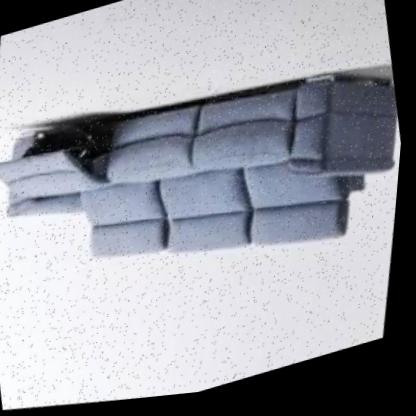Sofa: (0, 0, 415, 377)
